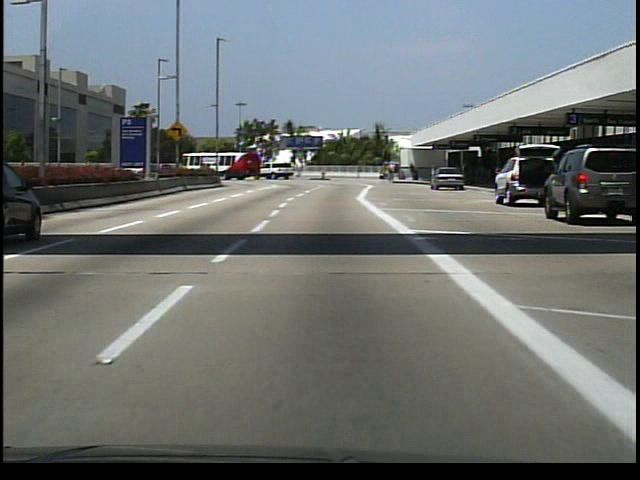person: (459, 156, 475, 186), (387, 157, 396, 182)
